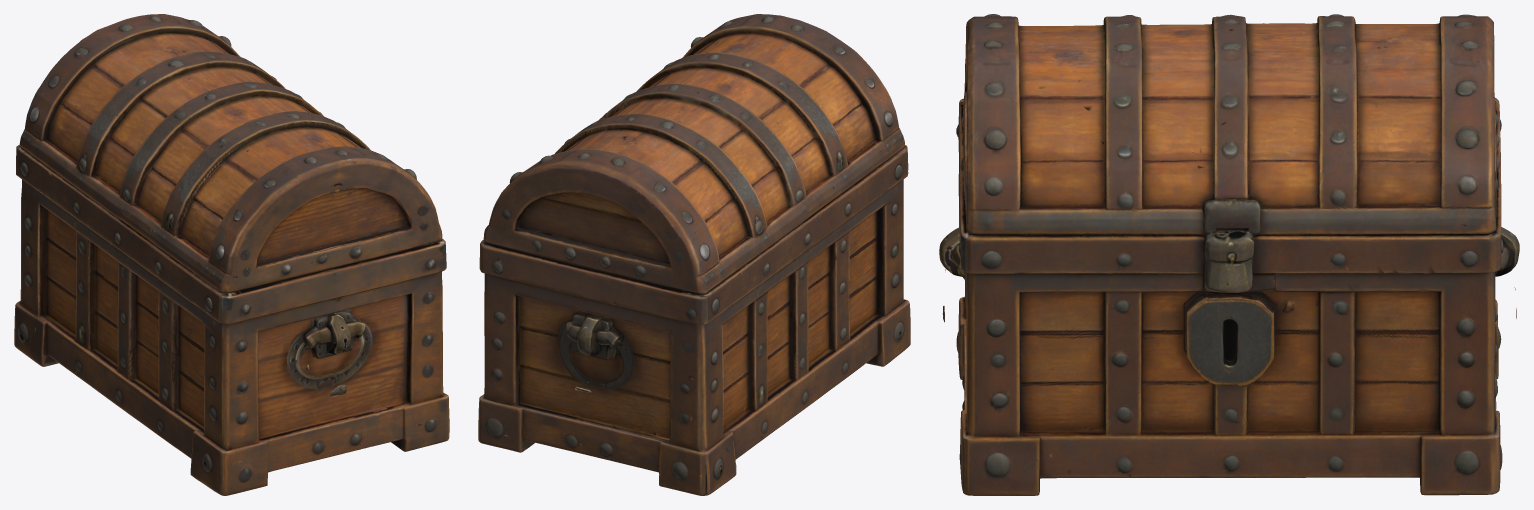
File: Timeless_Treasure_Che_0723212733_texture.fbx
3 renders of one model, left to right at view 1: azimuth 30°, elevation 25°; view 2: azimuth 150°, elevation 25°; view 3: azimuth 270°, elevation 25°, orthographic. The views are drawn at different scales.
Parts seen in each view (by area): view 1: Mesh_0; view 2: Mesh_0; view 3: Mesh_0.
Boxes of the visible parts, x1=… form: Mesh_0: x1=14, y1=14, x2=449, y2=495; Mesh_0: x1=478, y1=14, x2=910, y2=495; Mesh_0: x1=939, y1=14, x2=1519, y2=495.
Size of the model in its own units: 130 by 150 by 200.
1 material, 1 textured.
